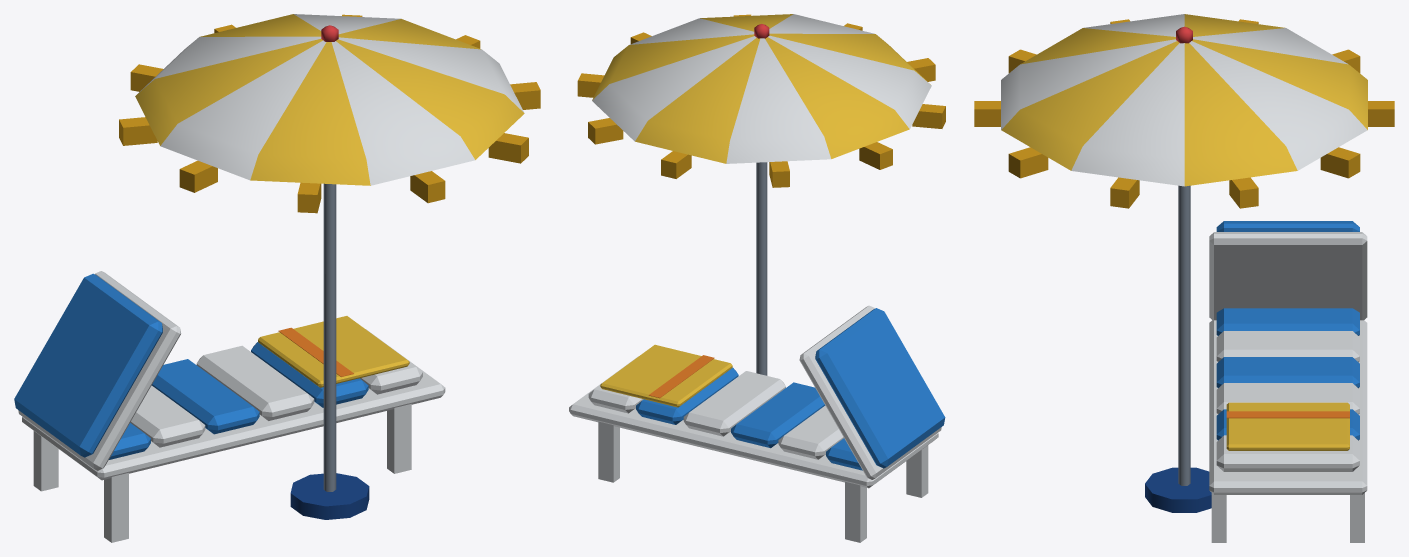
The model's file is aqua-prop2.glb.
The picture shows the model from 3 angles, left to right: view 1: azimuth 30°, elevation 25°; view 2: azimuth 150°, elevation 25°; view 3: azimuth 270°, elevation 25°; orthographic projection. The views are drawn at different scales.
Parts seen in each view (by area): view 1: aqua-prop2; view 2: aqua-prop2; view 3: aqua-prop2.
Boxes of the visible parts, x1,y1,x2,y2 form: aqua-prop2: (14, 14, 540, 542); aqua-prop2: (569, 14, 945, 542); aqua-prop2: (974, 14, 1394, 542).
Bounding box in the file's own units: 1.88 × 2.1 × 1.7.
